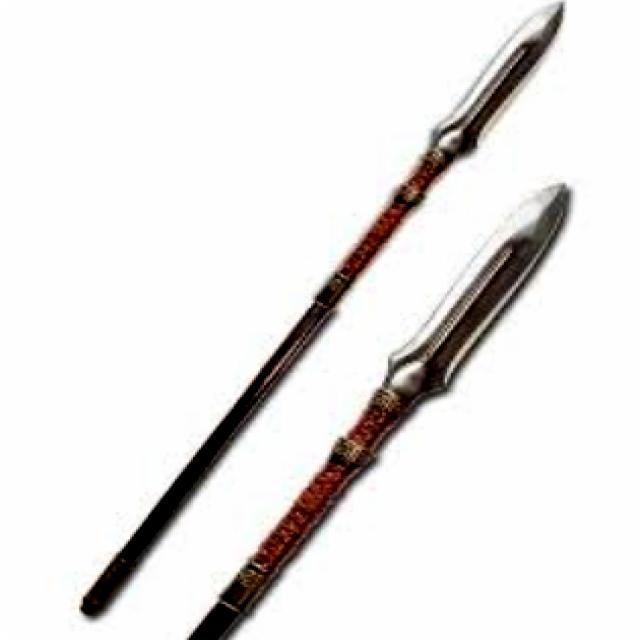spear: (41, 0, 568, 627), (140, 174, 598, 636)
